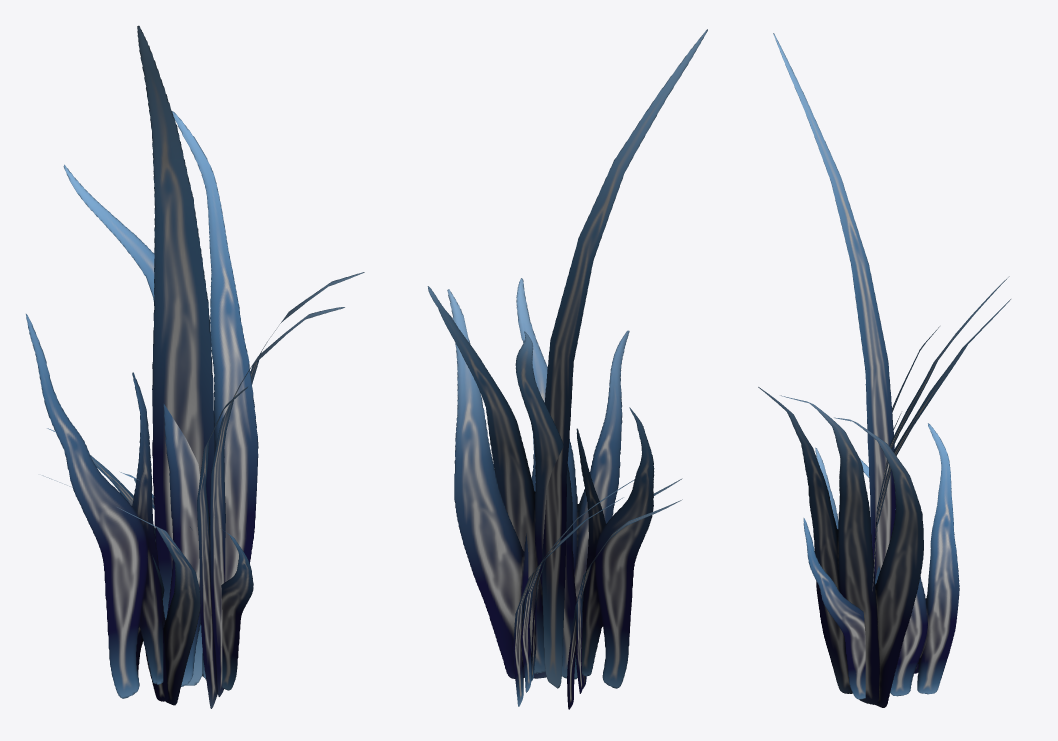
File: MarshGrassClump_c01.fbx
3 views of the same model, side by side, from view 1: azimuth 30°, elevation 25°; view 2: azimuth 150°, elevation 25°; view 3: azimuth 270°, elevation 25° (orthographic). The views are drawn at different scales.
Visible parts, largest first — view 1: GrassClump_c01; view 2: GrassClump_c01; view 3: GrassClump_c01.
Part boxes in pixels (x1=…): GrassClump_c01: x1=26, y1=25, x2=364, y2=708; GrassClump_c01: x1=427, y1=29, x2=707, y2=709; GrassClump_c01: x1=758, y1=33, x2=1010, y2=707.
Size of the model in its own units: 244 by 549 by 232.
